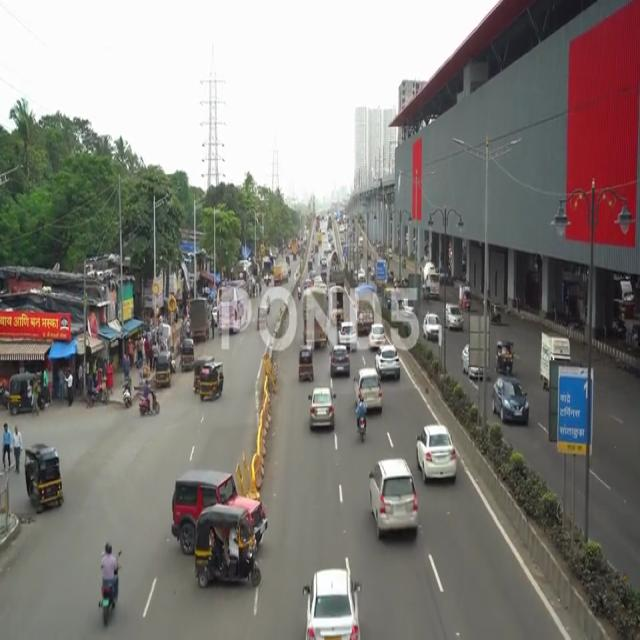car: (299, 569, 364, 640), (369, 464, 419, 539), (415, 423, 458, 487), (491, 376, 531, 422), (308, 386, 337, 436), (376, 347, 404, 384), (331, 345, 351, 376)
motorbike: (95, 533, 124, 633), (137, 380, 161, 420), (355, 397, 369, 447)
person: (1, 418, 13, 479), (12, 421, 24, 479)
rikshaw: (197, 511, 261, 598), (23, 448, 65, 511), (201, 366, 228, 404)
